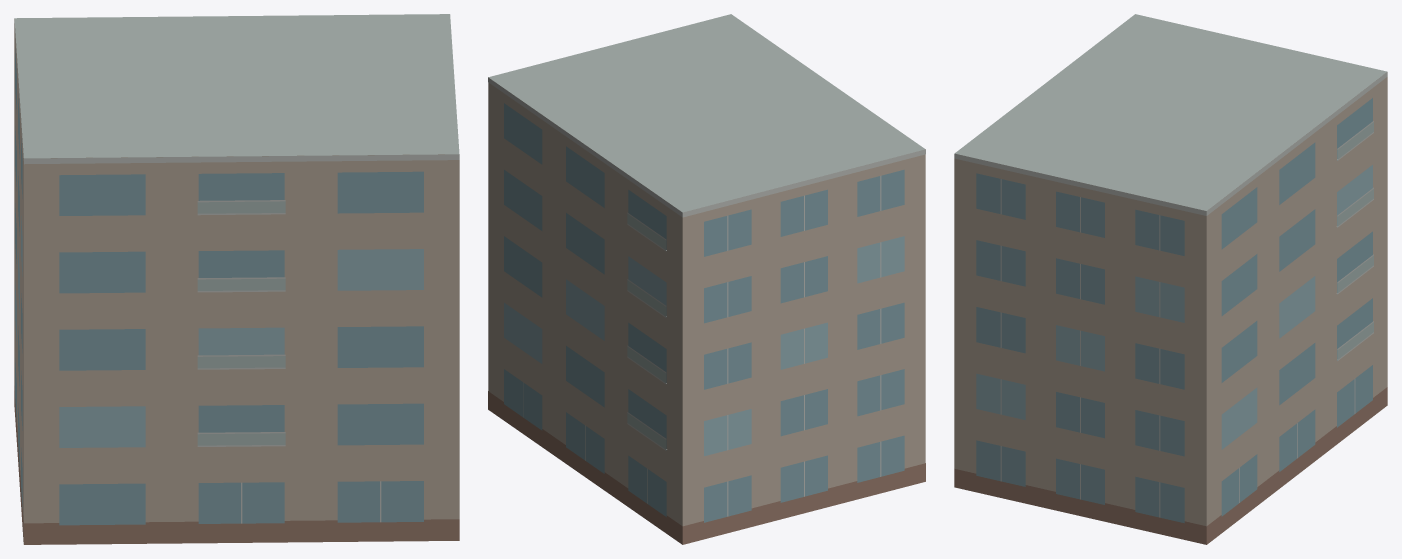
The model's file is survey-upis-32607579.glb.
3 views of the same model, side by side, from view 1: azimuth 30°, elevation 25°; view 2: azimuth 150°, elevation 25°; view 3: azimuth 270°, elevation 25° (orthographic). The views are drawn at different scales.
Parts seen in each view (by area): view 1: survey-upis-32607579.tmp; view 2: survey-upis-32607579.tmp; view 3: survey-upis-32607579.tmp.
Part boxes in pixels (x1,y1,x2,y2): survey-upis-32607579.tmp: (14,14,459,544); survey-upis-32607579.tmp: (488,14,925,544); survey-upis-32607579.tmp: (954,14,1387,544).
Size of the model in its own units: 20.65 by 16.3 by 19.18.
